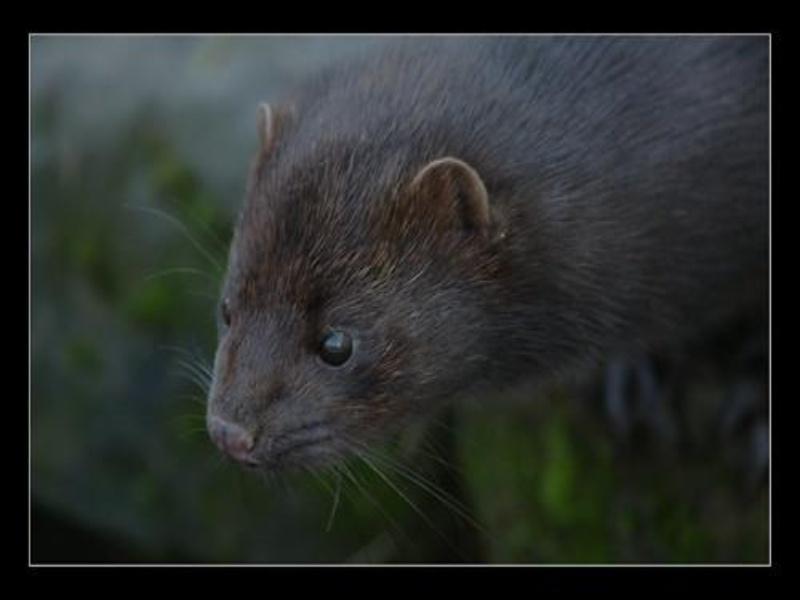minkish: (199, 34, 761, 481)
